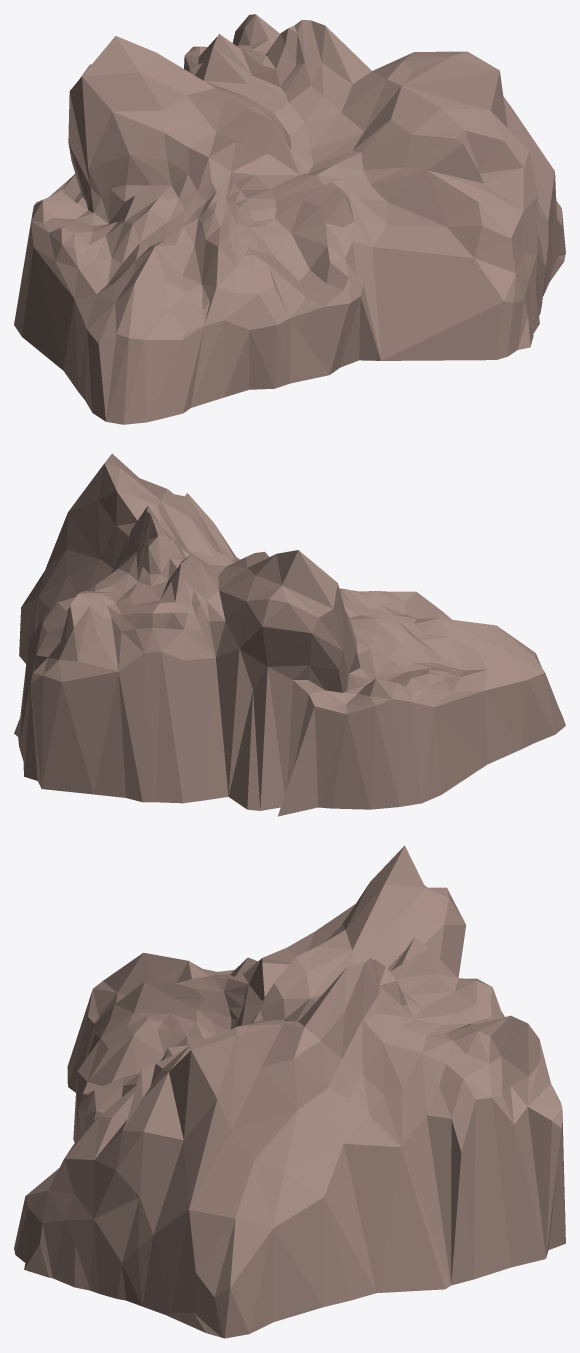
File: mountain_002.fbx
3 views of the same model, one above another, from view 1: azimuth 30°, elevation 25°; view 2: azimuth 150°, elevation 25°; view 3: azimuth 270°, elevation 25° (orthographic). The views are drawn at different scales.
Visible parts, largest first — view 1: mountain.002; view 2: mountain.002; view 3: mountain.002.
Part boxes in pixels (<box>): mountain.002: <box>14,14,565,424</box>; mountain.002: <box>14,453,565,816</box>; mountain.002: <box>14,845,565,1338</box>.
Size of the model in its own units: 5312 by 2449 by 4282.
Materials: 1 (1 with a texture image).
